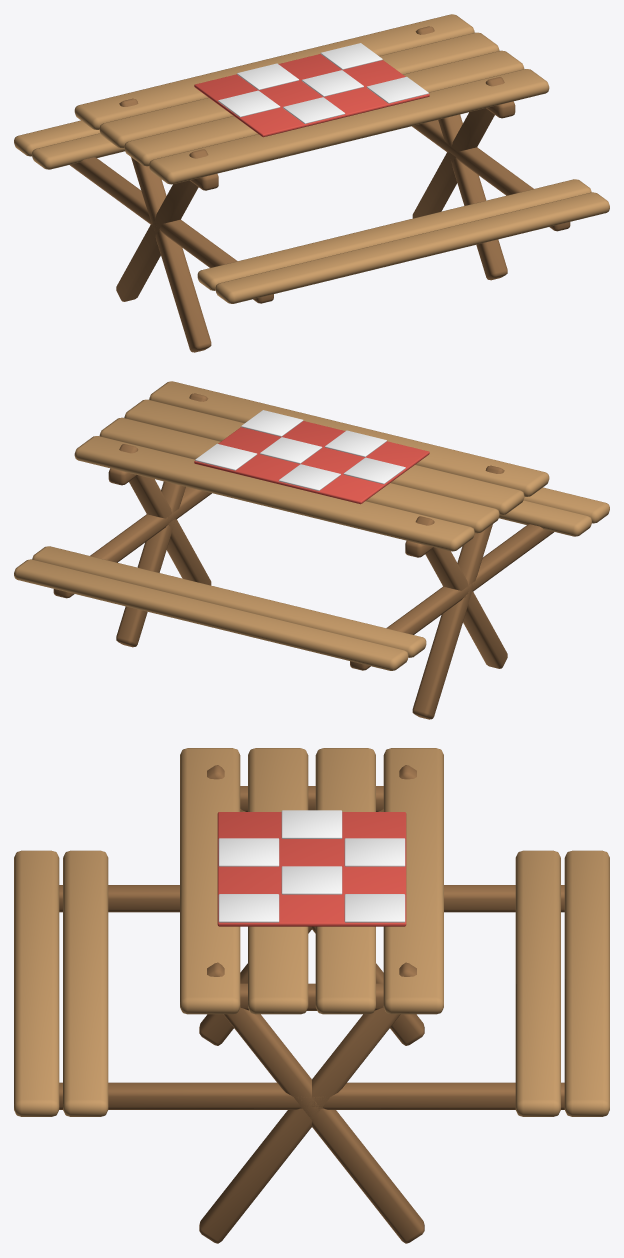
Rendered from picnic-table.glb.
3 views of the same model, one above another, from view 1: azimuth 30°, elevation 25°; view 2: azimuth 150°, elevation 25°; view 3: azimuth 270°, elevation 25° (orthographic). The views are drawn at different scales.
Visible parts, largest first — view 1: table; view 2: table; view 3: table.
Part boxes in pixels (bbox=[...]): table: bbox=[14, 14, 609, 352]; table: bbox=[14, 381, 609, 719]; table: bbox=[14, 748, 609, 1243].
Bounding box in the file's own units: 1.6 × 0.8068 × 1.58.
